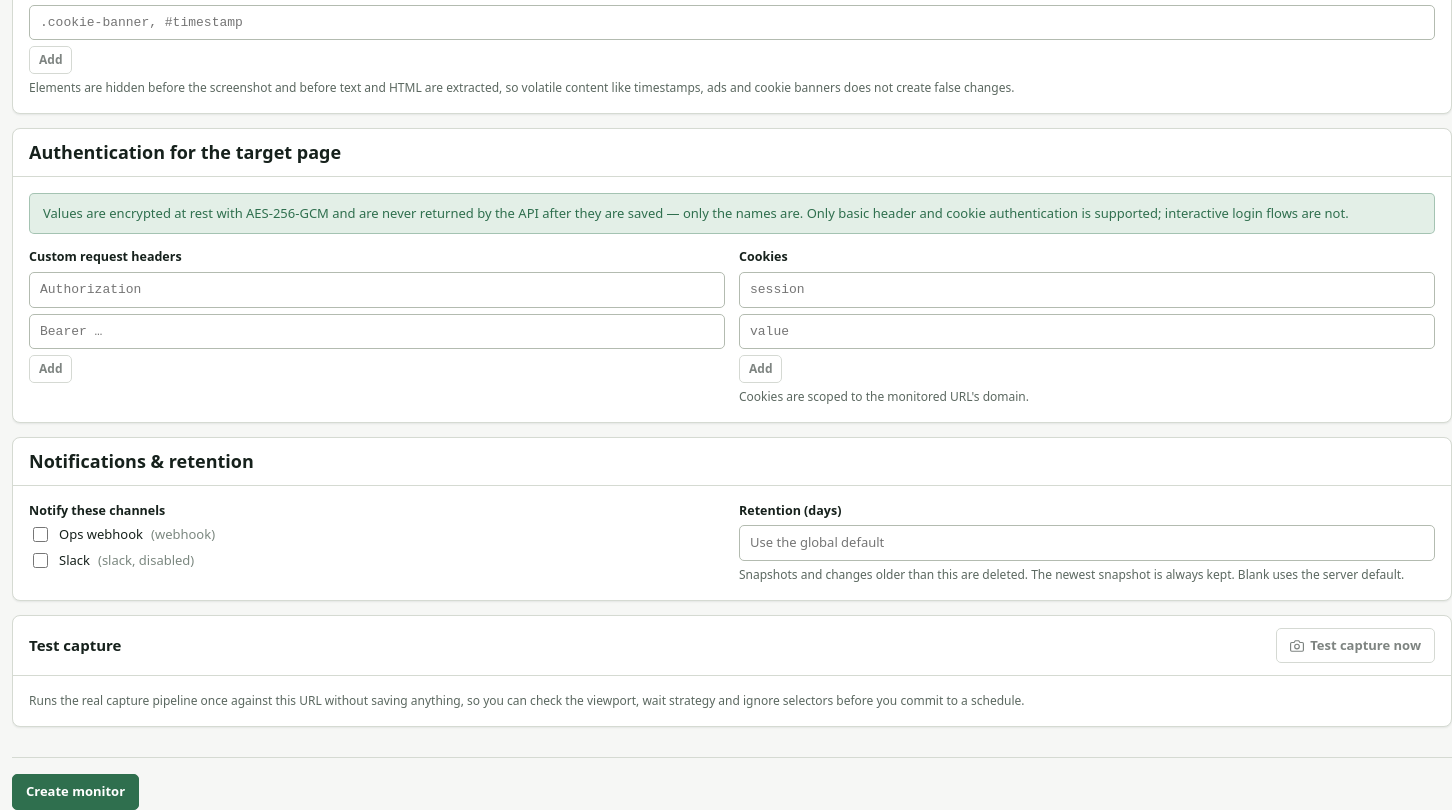
Scenario: MonitorForm validation › blocks submit and names the offending fields when required input is missing
The image size is (1452, 810).
(page scrolled)
What coordinates should you click on to do the following:
click the button "Create monitor"
I would click on:
 (76, 792)
Its box is [12,774,139,809].
(page scrolled)
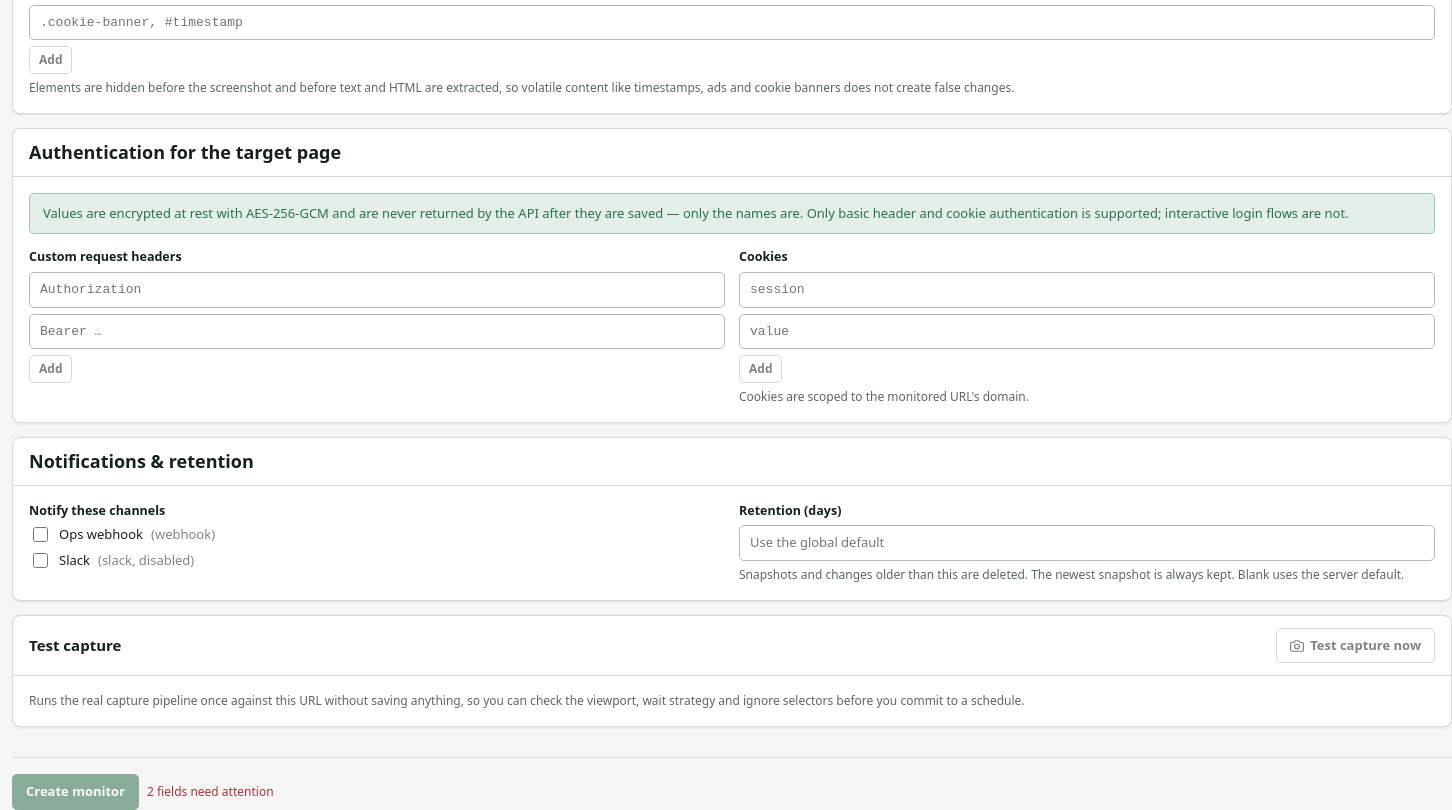
Expected: the text "2 fields need attention" is shown, [147,783,274,801]
